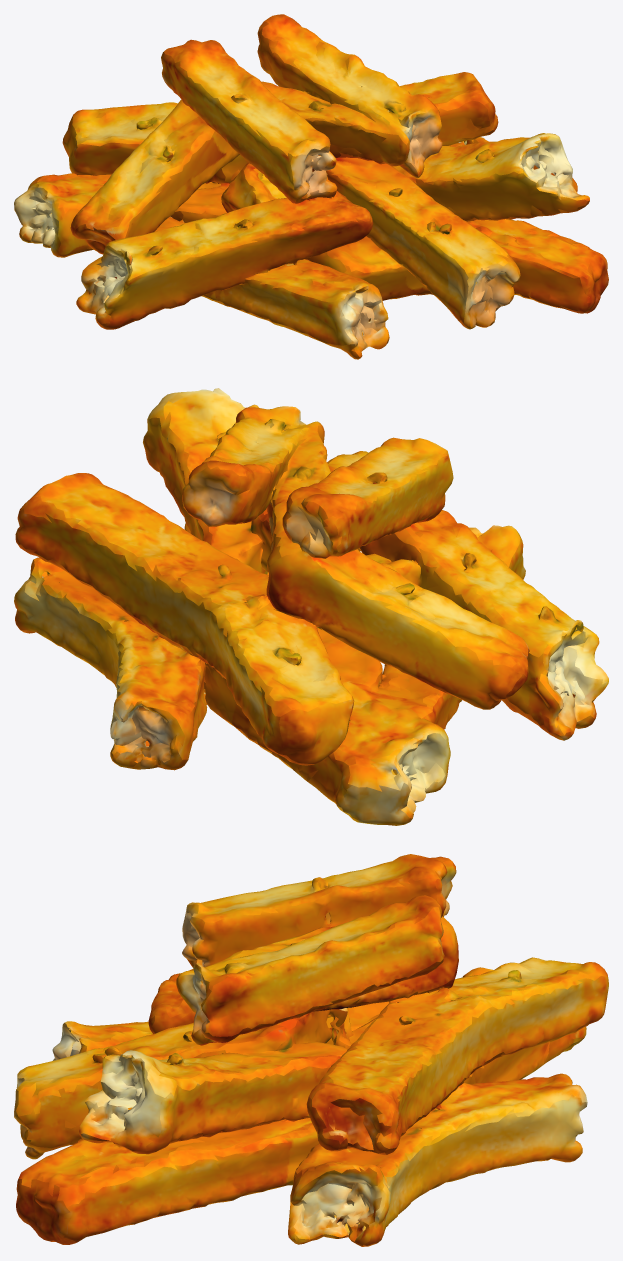
Rendered from rosemary-fries-2.glb.
The picture shows the model from 3 angles, top to bottom: view 1: azimuth 30°, elevation 25°; view 2: azimuth 150°, elevation 25°; view 3: azimuth 270°, elevation 25°; orthographic projection. The views are drawn at different scales.
Visible parts, largest first — view 1: geometry_0; view 2: geometry_0; view 3: geometry_0.
Boxes of the visible parts, left/top/right/bottom form: geometry_0: left=14, top=14, right=608, bottom=359; geometry_0: left=14, top=388, right=608, bottom=825; geometry_0: left=14, top=854, right=608, bottom=1246.
Bounding box in the file's own units: 0.075 × 0.0351 × 0.0749.
1 material, 1 textured.
